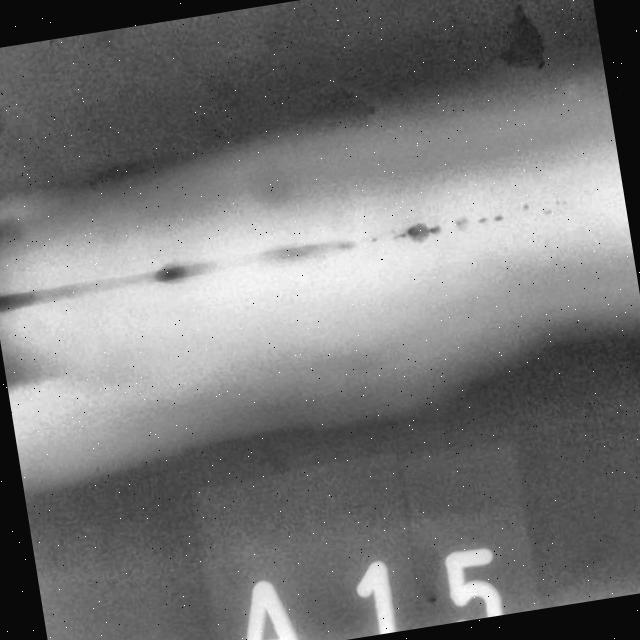LoP-LoF: (0, 176, 576, 327)
